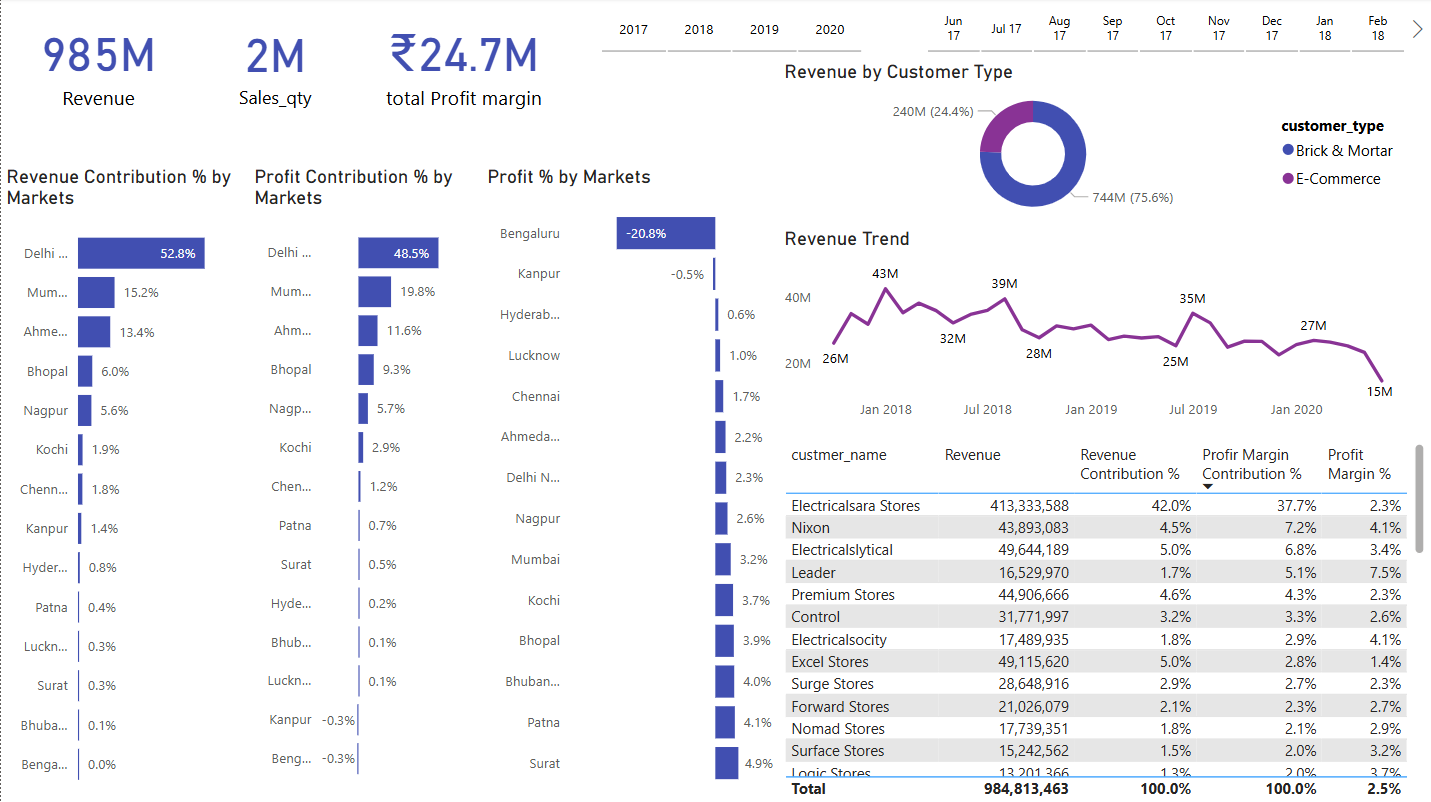

What the dashboard file says about the page in this screenshot:
{"tool":"powerbi","page":{"name":"Profit Analysis","canvas":[1280,720],"ordinal":0},"visuals":[{"type":"card","fields":{"Values":["base measures.Revenue"]},"box":[0,0,174.7,165],"z":0},{"type":"card","fields":{"Values":["base measures.Sales_qty"]},"box":[170.8,0,149.4,165],"z":1000},{"type":"barChart","title":"Profit % by Markets","fields":{"Y":["base measures.Profit Margin %"],"Category":["sales markets.markets_name"]},"box":[459,165,244.5,549.3],"z":2000},{"type":"barChart","title":"Profit Contribution % by Markets","fields":{"Category":["sales markets.markets_name"],"Y":["base measures.Profir Margin Contribution %"]},"box":[245.5,165,213.5,553.1],"z":3000},{"type":"slicer","fields":{"Values":["sales date.year"]},"box":[512.4,0,334.8,82.5],"z":4000},{"type":"slicer","fields":{"Values":["sales date.cy_date"]},"box":[847.2,0,432.8,82.5],"z":5000},{"type":"tableEx","title":"Top 5 Customers","fields":{"Values":["sales customers.custmer_name","base measures.Revenue","base measures.Revenue Contribution %","base measures.Profir Margin Contribution %","base measures.Profit Margin %"]},"box":[703.6,394,576.4,328],"z":6000},{"type":"lineChart","title":"Revenue Trend","fields":{"Y":["base measures.Revenue"],"Category":["sales date.cy_date.Variation.Date Hierarchy.Year","sales date.cy_date.Variation.Date Hierarchy.Quarter","sales date.cy_date.Variation.Date Hierarchy.Month","sales date.cy_date.Variation.Date Hierarchy.Day"]},"box":[703.6,238.7,551.2,155.3],"z":8000},{"type":"card","fields":{"Values":["base measures.total Profit margin"]},"box":[320.2,0,188.3,165],"z":9000},{"type":"barChart","title":"RevenueContribution % by Markets","fields":{"Category":["sales markets.markets_name"],"Y":["base measures.Revenue Contribution %"]},"box":[10.7,165,222.2,553.1],"z":9002},{"type":"donutChart","title":"Revenue by Customer Type","fields":{"Y":["base measures.Revenue"],"Category":["sales customers.customer_type"]},"box":[696.8,90.3,563.8,149.4],"z":9003}]}

Visuals, with their boxes in screenshot pixels (x1, y1, x2, y2), scaled from the page's 1280x720 canvas onto the 1431x802 screenshot:
card - base measures.Revenue: x1=0 y1=0 x2=195 y2=184
card - base measures.Sales_qty: x1=191 y1=0 x2=358 y2=184
"Profit % by Markets" barChart: x1=513 y1=184 x2=786 y2=796
"Profit Contribution % by Markets" barChart: x1=274 y1=184 x2=513 y2=800
slicer - sales date.year: x1=573 y1=0 x2=947 y2=92
slicer - sales date.cy_date: x1=947 y1=0 x2=1430 y2=92
"Top 5 Customers" tableEx: x1=787 y1=439 x2=1430 y2=801
"Revenue Trend" lineChart: x1=787 y1=266 x2=1403 y2=439
card - base measures.total Profit margin: x1=358 y1=0 x2=568 y2=184
"RevenueContribution % by Markets" barChart: x1=12 y1=184 x2=260 y2=800
"Revenue by Customer Type" donutChart: x1=779 y1=101 x2=1409 y2=267
